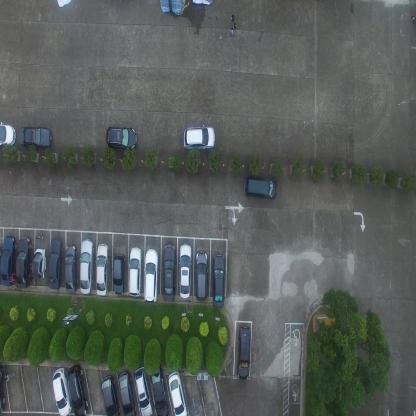car: (66, 364, 88, 416), (148, 364, 168, 416), (167, 370, 188, 416), (52, 367, 72, 415), (78, 237, 94, 296), (133, 366, 152, 415), (0, 236, 18, 287), (143, 247, 159, 304), (15, 237, 32, 290), (183, 124, 216, 151), (244, 174, 278, 200), (19, 124, 51, 151), (106, 124, 137, 151), (117, 371, 136, 415), (95, 243, 110, 298), (237, 324, 251, 382), (162, 244, 176, 300), (178, 242, 192, 298), (100, 375, 119, 415), (211, 254, 225, 308), (48, 238, 62, 291), (194, 249, 208, 301), (128, 246, 142, 297), (64, 244, 77, 294), (112, 254, 126, 296), (32, 247, 47, 281), (0, 121, 16, 150), (0, 364, 7, 414)
